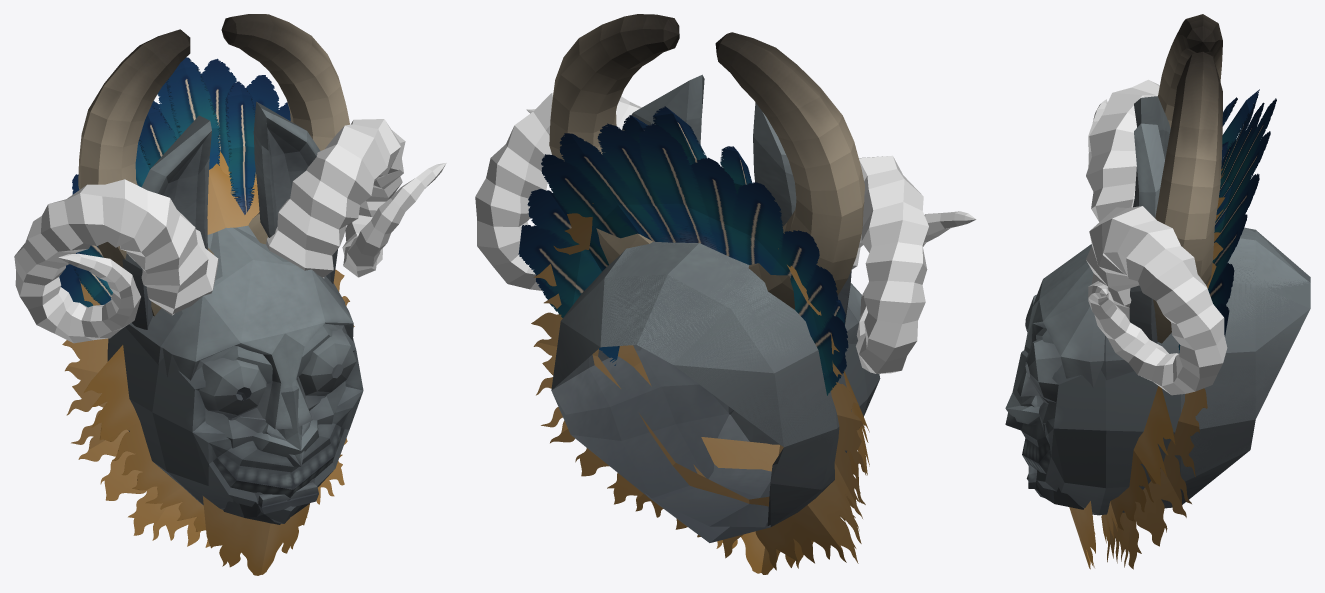
File: Mask.v3.fbx
3 views of the same model, side by side, from view 1: azimuth 30°, elevation 25°; view 2: azimuth 150°, elevation 25°; view 3: azimuth 270°, elevation 25° (orthographic). The views are drawn at different scales.
Parts seen in each view (by area): view 1: Horns.goat, Mask.surprised.full, Mask.creepy.full, Mane.fur.textured, Horns.halo.textured, Mane.feathers.textured, Horns.ears, Mask.stoic.full; view 2: Mane.feathers.textured, Mask.creepy.full, Mask.surprised.full, Horns.halo.textured, Horns.goat, Mask.stoic.full, Mane.fur.textured, Horns.ears; view 3: Mask.creepy.full, Horns.goat, Mask.surprised.full, Horns.halo.textured, Mane.fur.textured, Mane.feathers.textured, Horns.ears, Mask.stoic.full.
Part boxes in pixels (box(x1,y1,x2,y2)): Horns.goat: box(14, 119, 446, 343); Mask.surprised.full: box(107, 225, 356, 429); Mask.creepy.full: box(108, 227, 363, 523); Mane.fur.textured: box(62, 151, 354, 575); Horns.halo.textured: box(78, 14, 349, 316); Mane.feathers.textured: box(59, 57, 290, 307); Horns.ears: box(122, 101, 337, 329); Mask.stoic.full: box(125, 276, 345, 524); Mane.feathers.textured: box(518, 106, 848, 395); Mask.creepy.full: box(551, 241, 880, 541); Mask.surprised.full: box(553, 242, 861, 527); Horns.halo.textured: box(549, 14, 864, 309); Horns.goat: box(475, 93, 976, 373); Mask.stoic.full: box(551, 306, 858, 542); Mane.fur.textured: box(531, 203, 869, 574); Horns.ears: box(622, 74, 851, 323); Mask.creepy.full: box(1005, 228, 1310, 515); Horns.goat: box(1086, 79, 1227, 395); Mask.surprised.full: box(1017, 228, 1310, 476); Horns.halo.textured: box(1153, 14, 1222, 343); Mane.fur.textured: box(1069, 168, 1225, 569); Mane.feathers.textured: box(1178, 89, 1276, 352); Horns.ears: box(1129, 96, 1170, 343); Mask.stoic.full: box(1005, 332, 1179, 509).
Size of the model in its own units: 3.1 by 3.93 by 2.04.
